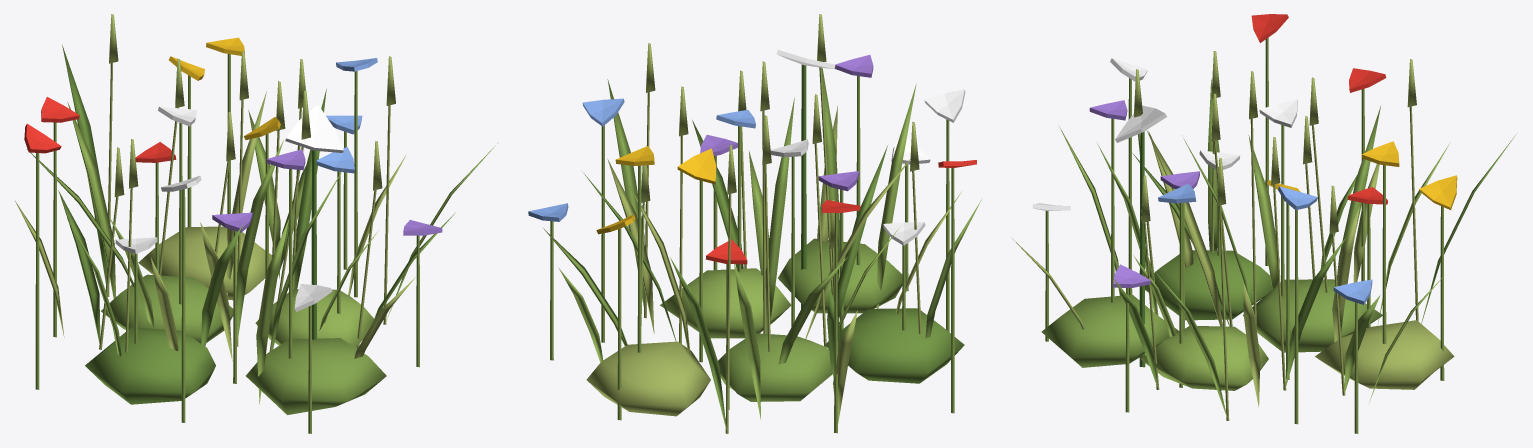
Rendered from meadow.far.glb.
3 renders of one model, left to right at view 1: azimuth 30°, elevation 25°; view 2: azimuth 150°, elevation 25°; view 3: azimuth 270°, elevation 25°, orthographic. The views are drawn at different scales.
Parts seen in each view (by area): view 1: meadow; view 2: meadow; view 3: meadow.
Part boxes in pixels (box(x1,y1,x2,y2)): meadow: box(15, 14, 498, 433); meadow: box(528, 14, 982, 433); meadow: box(1012, 14, 1516, 433).
Size of the model in its own units: 0.8439 by 0.5748 by 0.9105.
